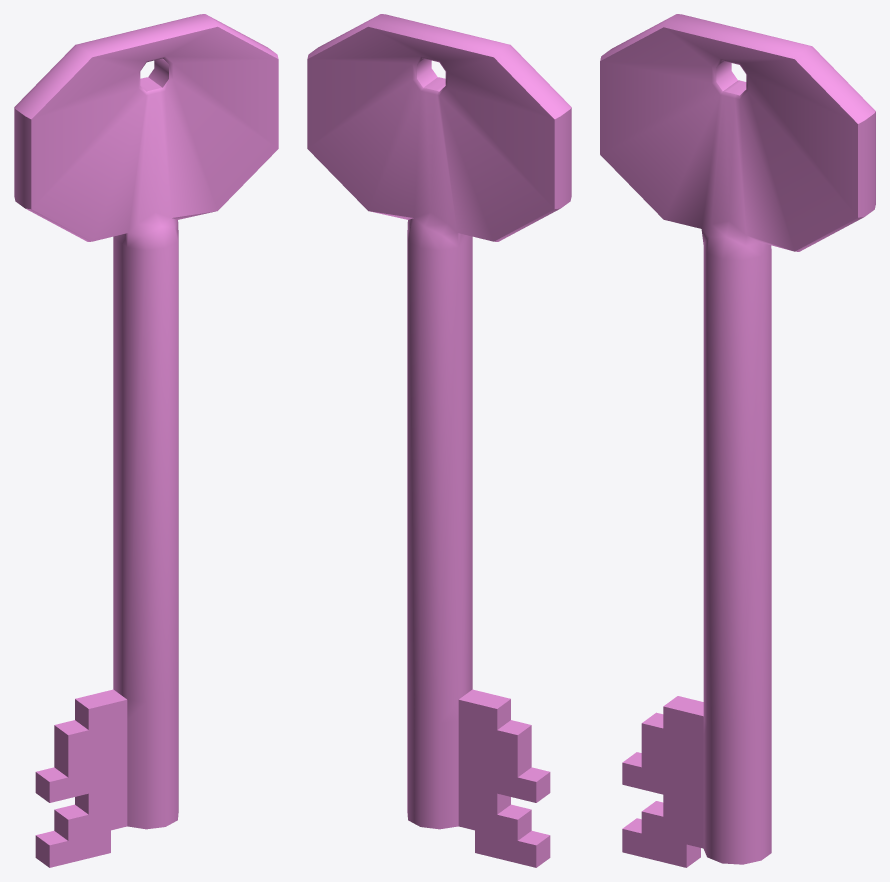
The model's file is Keys_26.FBX.
The picture shows the model from 3 angles, left to right: view 1: azimuth 30°, elevation 25°; view 2: azimuth 150°, elevation 25°; view 3: azimuth 330°, elevation 25°; orthographic projection. The views are drawn at different scales.
Visible parts, largest first — view 1: Keys_26; view 2: Keys_26; view 3: Keys_26.
Part boxes in pixels (x1,y1,x2,y2): Keys_26: (14, 14, 278, 867); Keys_26: (307, 14, 571, 867); Keys_26: (600, 14, 875, 867).
Size of the model in its own units: 1.1 by 3.36 by 0.2585.
